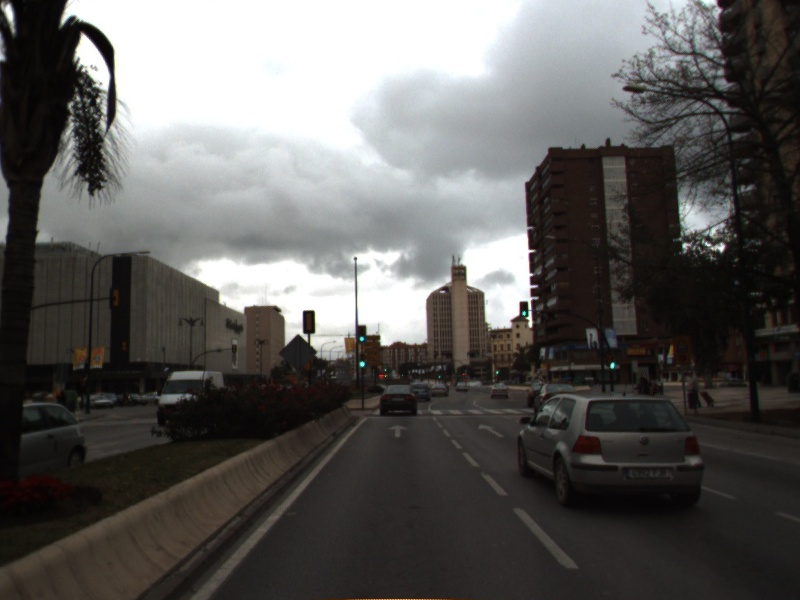STRAIGHT: (475, 421, 506, 440), (385, 422, 411, 439)
